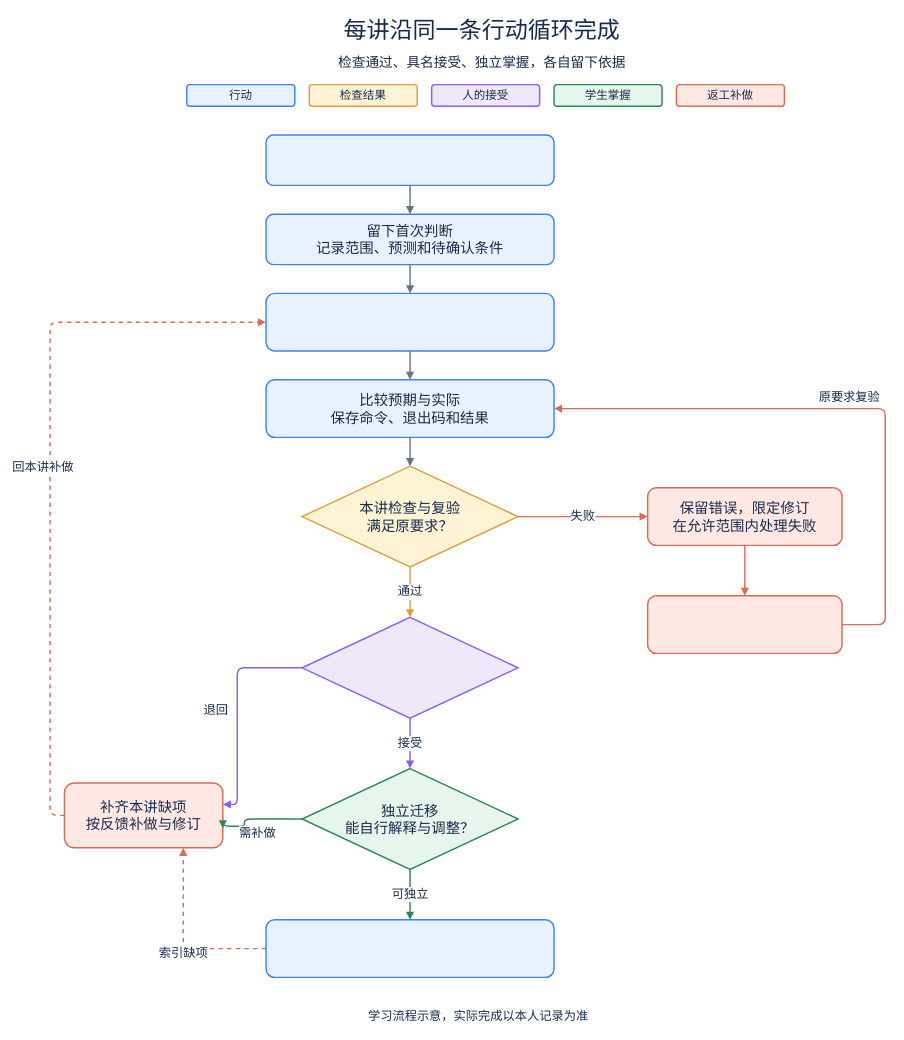
The diagram is 904 pixels wide and 1040 high, and some of its shapes have lost their labels. The centre of each missing label's shape, as x and y in pixels:
具名审核 接受当前候选？: (x=409, y=667)
按原要求复验 不把失败改写为成功: (x=744, y=624)
按手册操作 确定位置、允许范围和动作: (x=409, y=321)
提交索引 → 下一讲 引用本人版本、判断与原始证据: (x=409, y=948)
读本讲问题 先说明这一讲要解决什么: (x=409, y=160)
